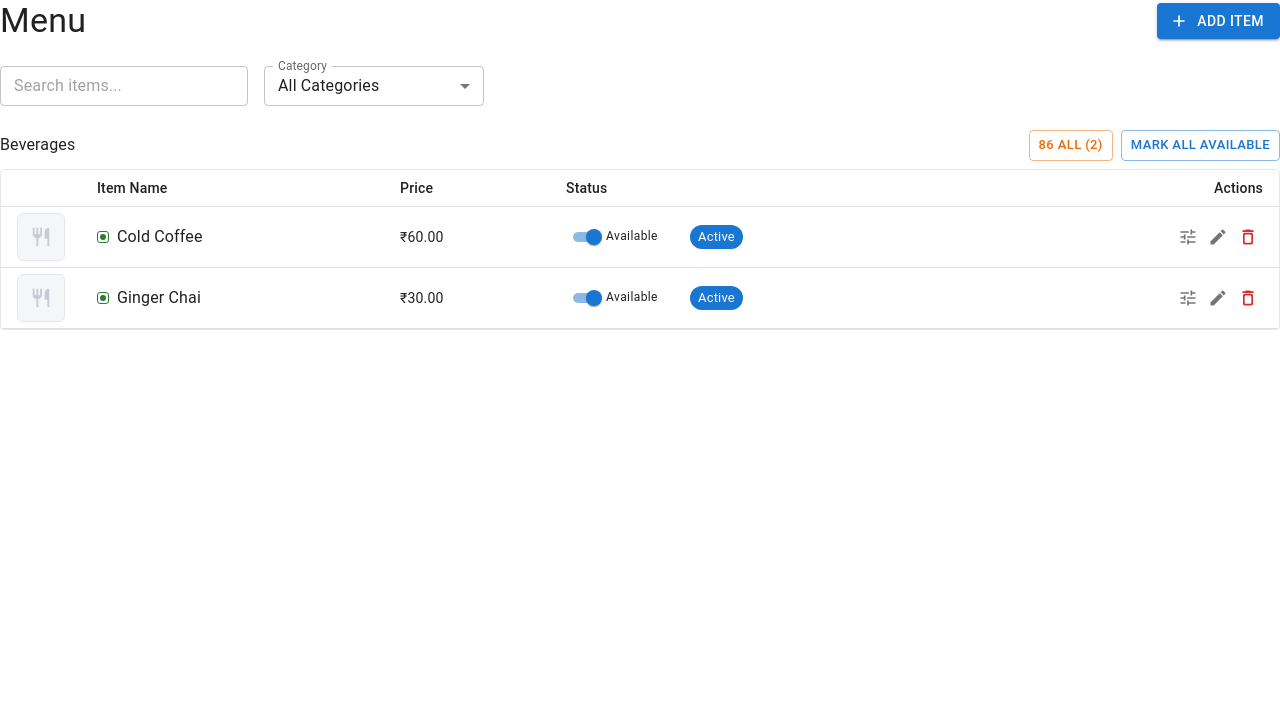
Scenario: Menu - bulk availability requires confirmation › does nothing when the confirmation is cancelled
Expected: the text "Ginger Chai" is shown, [117,286,201,310]
What coordinates should you click on to do the following:
click the button "86 All (2)"
I would click on:
 (1071, 145)
Its box is [1029,130,1113,161].
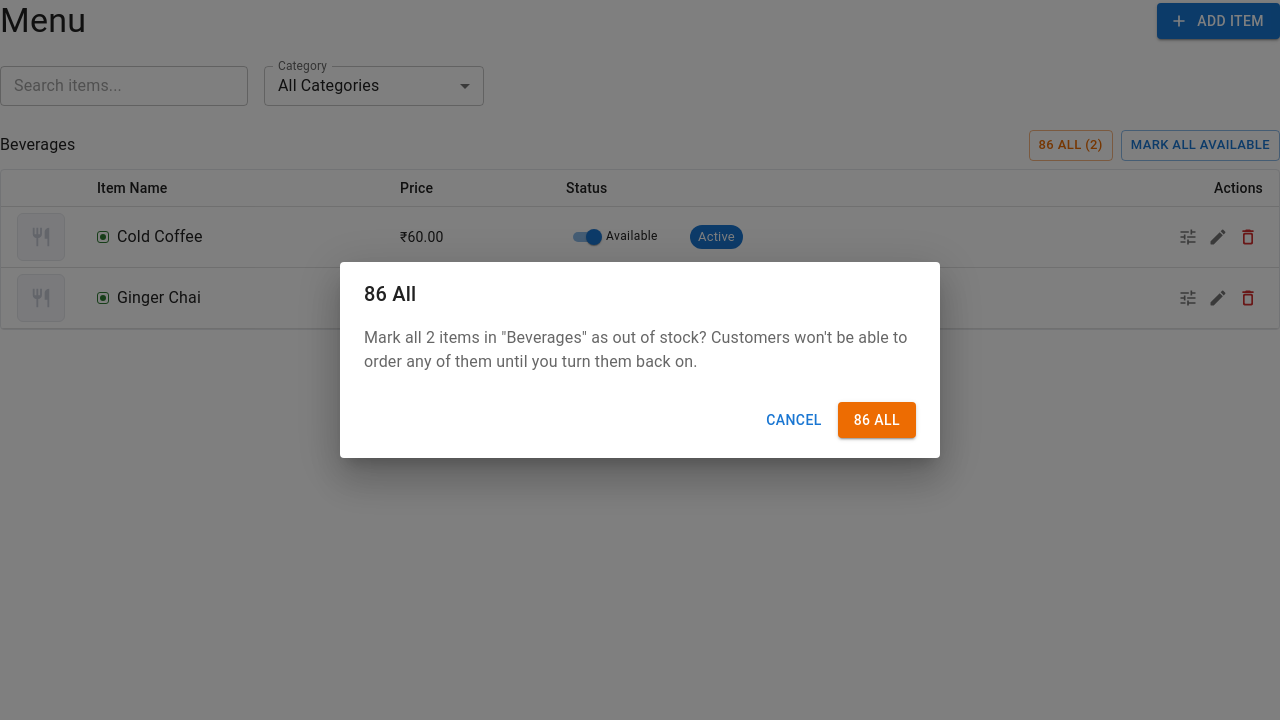
Result: the text "Mark all 2 items" is shown at [364,328,908,371]
What coordinates should you click on to do the following:
click the button "Cancel"
I would click on:
 (794, 420)
Its box is [758,402,830,438].
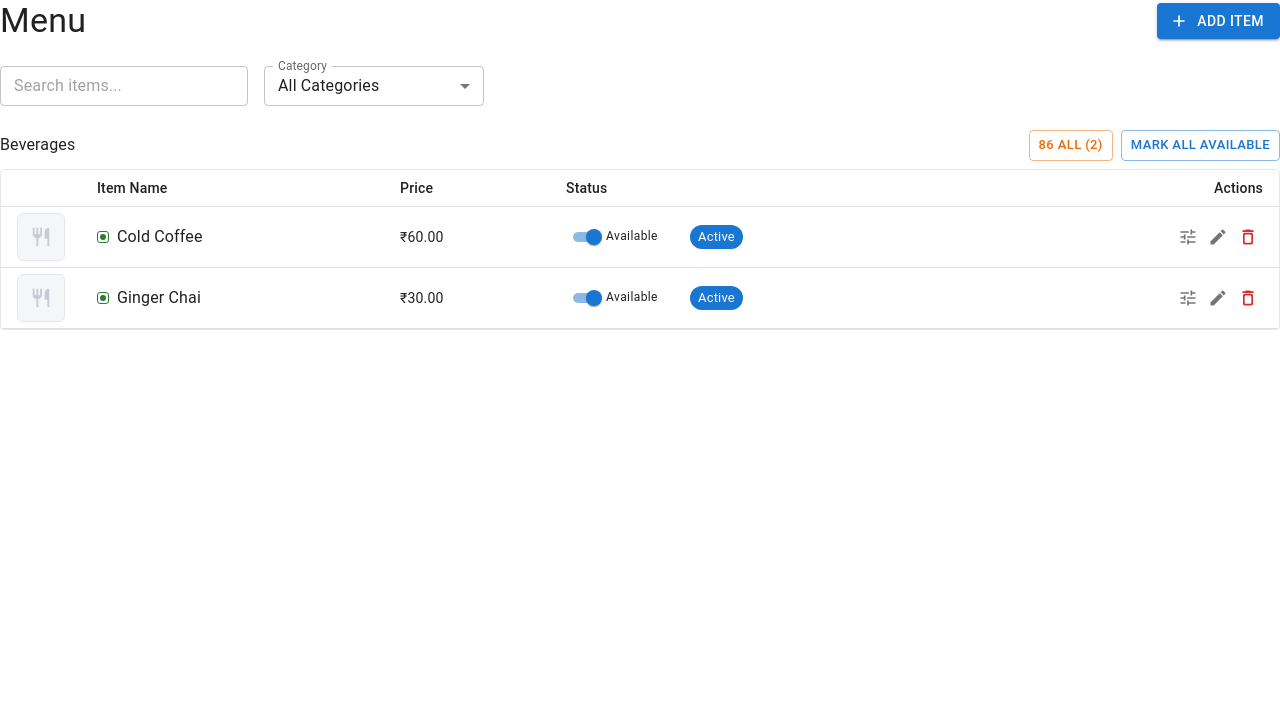
Result: the text "Mark all 2 items" is gone
